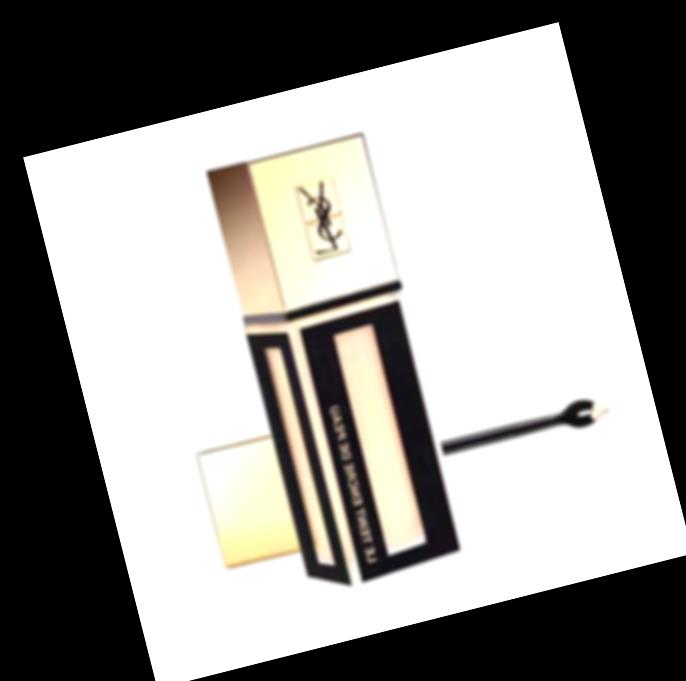cosmetic: (201, 133, 469, 599)
